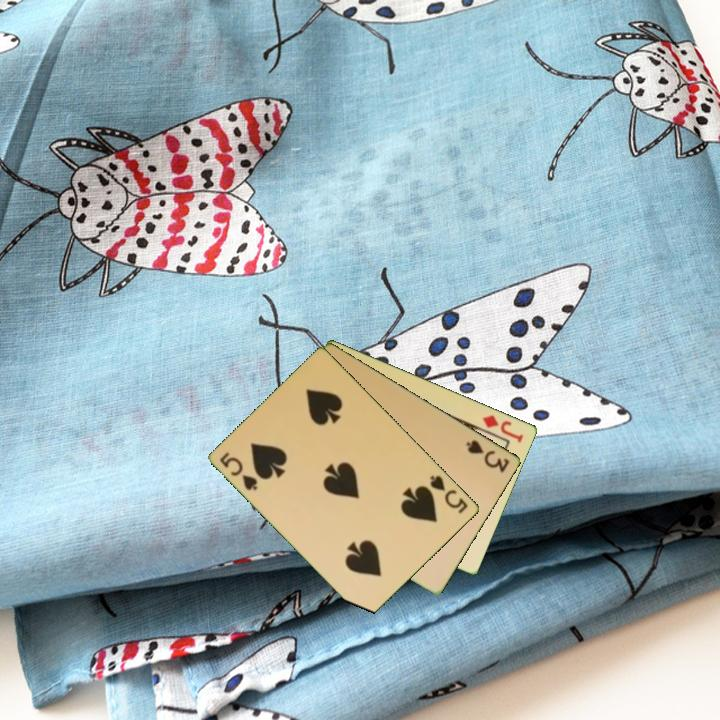3s: (463, 436, 513, 476)
5s: (427, 471, 471, 516), (217, 448, 261, 493)
Jd: (479, 411, 527, 445)
